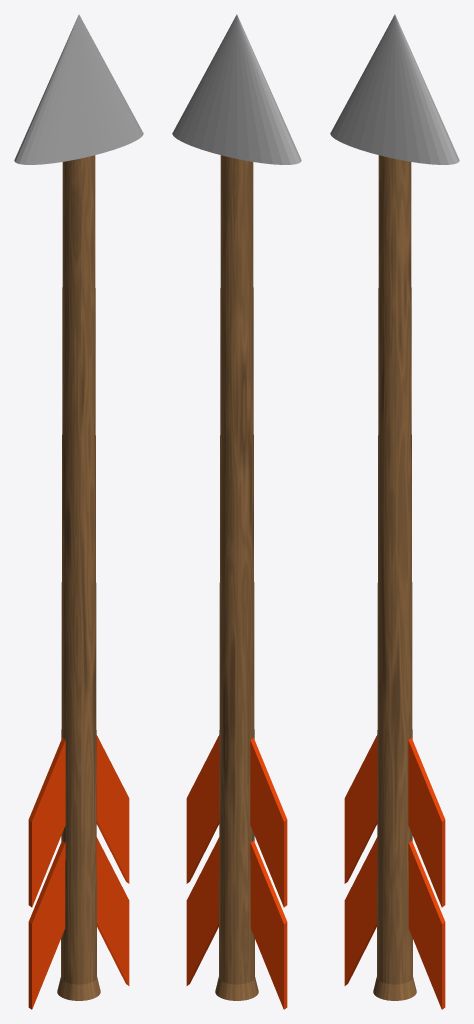
The model's file is Flecha.fbx.
3 views of the same model, side by side, from view 1: azimuth 30°, elevation 25°; view 2: azimuth 150°, elevation 25°; view 3: azimuth 330°, elevation 25° (orthographic).
Visible parts, largest first — view 1: Cylinder, Cone, Cube.001, Cube; view 2: Cylinder, Cone, Cube.001, Cube; view 3: Cylinder, Cone, Cube.001, Cube.
Boxes of the visible parts, x1=… form: Cylinder: x1=57, y1=155, x2=100, y2=1000; Cone: x1=14, y1=14, x2=143, y2=164; Cube.001: x1=28, y1=735, x2=129, y2=907; Cube: x1=28, y1=837, x2=129, y2=1009; Cylinder: x1=215, y1=155, x2=258, y2=1000; Cone: x1=172, y1=14, x2=301, y2=164; Cube.001: x1=186, y1=735, x2=287, y2=907; Cube: x1=186, y1=837, x2=287, y2=1009; Cylinder: x1=373, y1=155, x2=416, y2=1000; Cone: x1=330, y1=14, x2=459, y2=164; Cube.001: x1=344, y1=735, x2=445, y2=907; Cube: x1=344, y1=837, x2=445, y2=1009.
Bounding box in the file's own units: 4.22 × 31.18 × 1.43.
3 materials, 1 textured.
